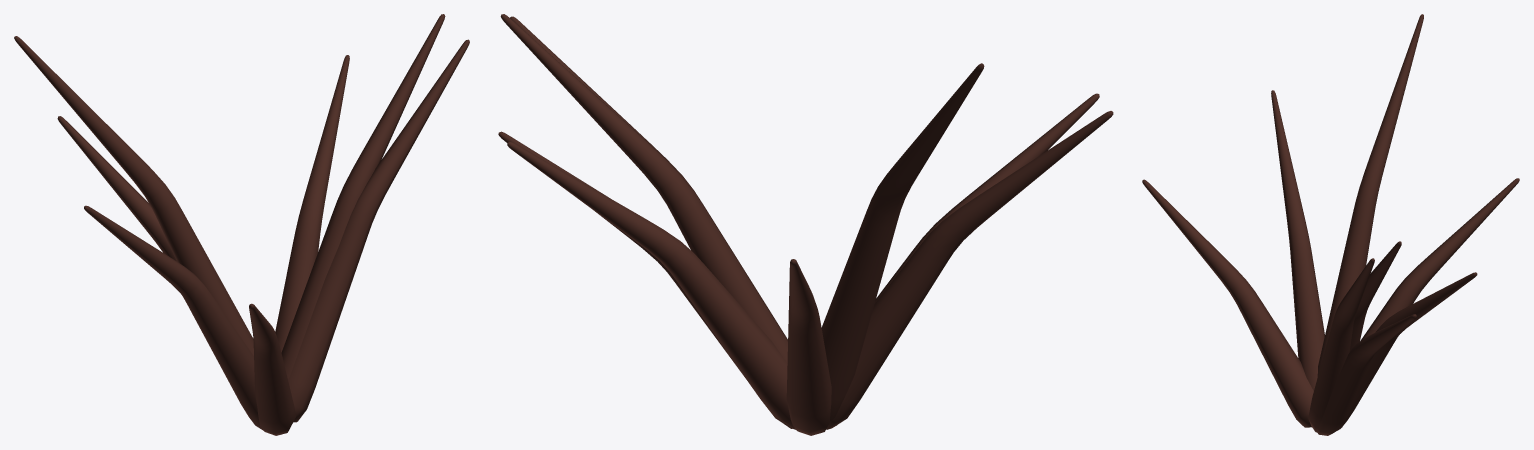
The model's file is DM_Thorns.fbx.
3 views of the same model, side by side, from view 1: azimuth 30°, elevation 25°; view 2: azimuth 150°, elevation 25°; view 3: azimuth 270°, elevation 25° (orthographic). The views are drawn at different scales.
Visible parts, largest first — view 1: DM_Thorns; view 2: DM_Thorns; view 3: DM_Thorns.
Boxes of the visible parts, x1,y1,x2,y2 form: DM_Thorns: (14,14,469,435); DM_Thorns: (498,14,1113,435); DM_Thorns: (1142,14,1519,435).
Bounding box in the file's own units: 1.07 × 0.9153 × 0.938.
